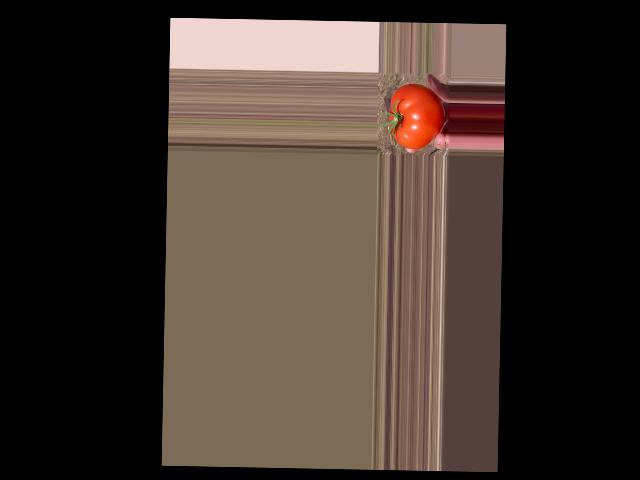tomato: (388, 83, 445, 150)
